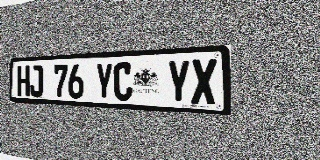6: (68, 64, 84, 99)
7: (53, 64, 68, 98)
C: (114, 62, 132, 101)
H: (18, 66, 30, 97)
J: (30, 65, 43, 97)
X: (191, 59, 217, 105)
Y: (167, 60, 190, 104), (95, 63, 113, 100)
